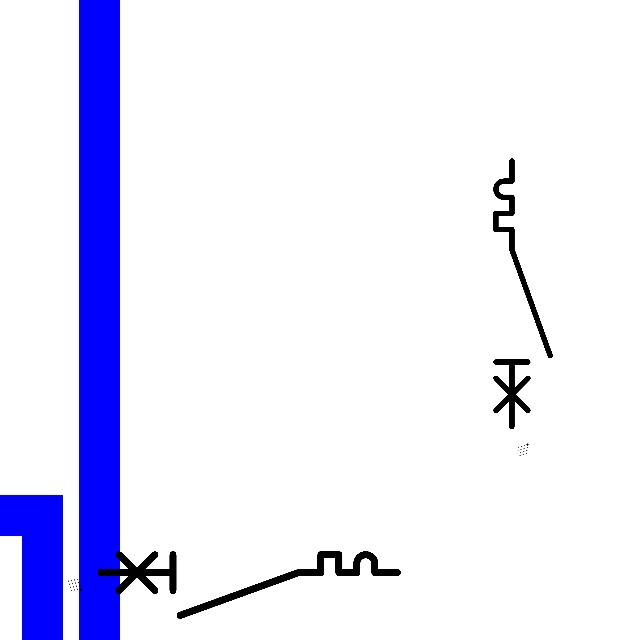interruptor_termomagnetico: (93, 547, 404, 623), (489, 154, 557, 434)
